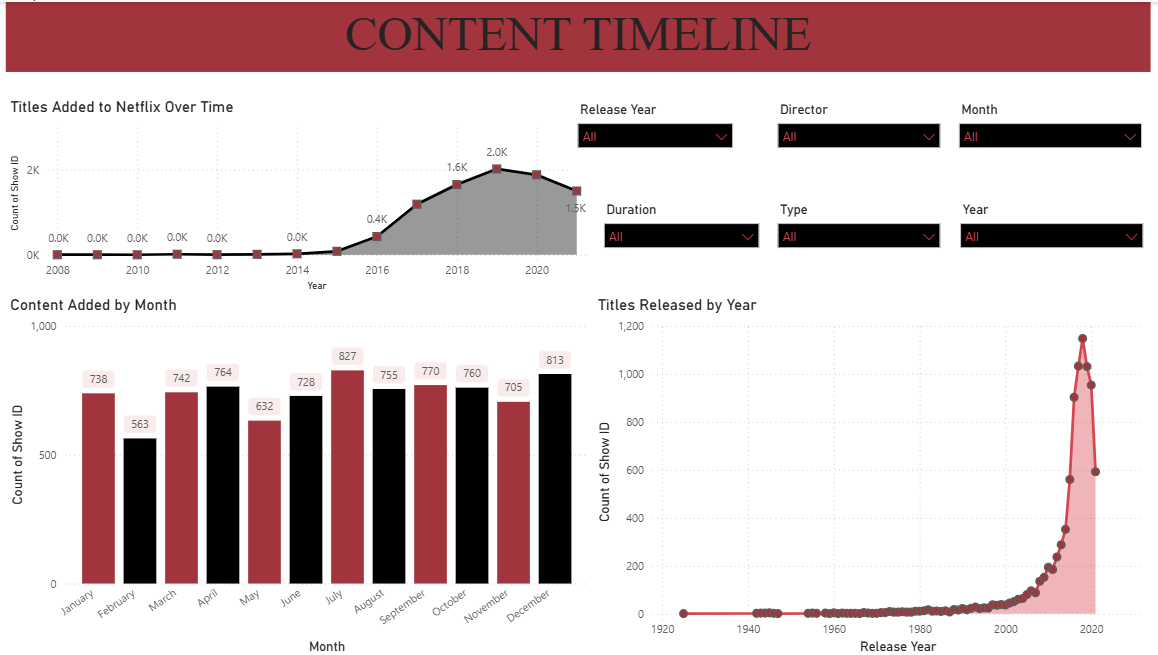

What the dashboard file says about the page in this screenshot:
{"tool":"powerbi","page":{"name":"Page 2","canvas":[1280,720],"ordinal":1},"visuals":[{"type":"textbox","box":[9.6,0,1257,76.8],"z":0},{"type":"areaChart","title":"Titles Added to Netflix Over Time","fields":{"Category":["Netflix data.Date Added.Variation.Date Hierarchy.Year","Netflix data.Date Added.Variation.Date Hierarchy.Quarter","Netflix data.Date Added.Variation.Date Hierarchy.Month","Netflix data.Date Added.Variation.Date Hierarchy.Day"],"Y":["CountNonNull(Netflix data.Show ID)"]},"box":[9.6,104.3,644.9,218.2],"z":1000},{"type":"lineChart","title":"Titles Released by Year","fields":{"Category":["Netflix data.Release Year"],"Y":["CountNonNull(Netflix data.Show ID)"]},"box":[654.5,322.5,612,397.9],"z":2000},{"type":"clusteredColumnChart","title":"Content Added by Month","fields":{"Category":["Netflix data.Date Added.Variation.Date Hierarchy.Month"],"Y":["CountNonNull(Netflix data.Show ID)"]},"box":[9.6,322.5,644.9,397.9],"z":3000},{"type":"slicer","fields":{"Values":["Netflix data.Release Year"]},"box":[627.1,104.3,190.7,87.8],"z":4000},{"type":"slicer","fields":{"Values":["Netflix data.Duration"]},"box":[655.9,214.1,190.7,87.8],"z":5000},{"type":"slicer","fields":{"Values":["Netflix data.Director"]},"box":[846.7,104.3,199,87.8],"z":6000},{"type":"slicer","fields":{"Values":["Netflix data.Type"]},"box":[846.7,214.1,199,87.8],"z":7000},{"type":"slicer","fields":{"Values":["Netflix data.Date Added.Variation.Date Hierarchy.Month"]},"box":[1045.6,104.3,220.9,87.8],"z":8000},{"type":"slicer","fields":{"Values":["Netflix data.Date Added.Variation.Date Hierarchy.Year"]},"box":[1047,214.1,220.9,87.8],"z":9000}]}

Visuals, with their boxes in screenshot pixels (x1, y1, x2, y2), scaled from the page's 1280x720 canvas onto the 1158x655 screenshot:
textbox: {"left": 9, "top": 0, "right": 1146, "bottom": 70}
"Titles Added to Netflix Over Time" areaChart: {"left": 9, "top": 95, "right": 592, "bottom": 293}
"Titles Released by Year" lineChart: {"left": 592, "top": 293, "right": 1146, "bottom": 654}
"Content Added by Month" clusteredColumnChart: {"left": 9, "top": 293, "right": 592, "bottom": 654}
slicer - Netflix data.Release Year: {"left": 567, "top": 95, "right": 740, "bottom": 175}
slicer - Netflix data.Duration: {"left": 593, "top": 195, "right": 766, "bottom": 275}
slicer - Netflix data.Director: {"left": 766, "top": 95, "right": 946, "bottom": 175}
slicer - Netflix data.Type: {"left": 766, "top": 195, "right": 946, "bottom": 275}
slicer - Netflix data.Date Added.Variation.Date Hierarchy.Month: {"left": 946, "top": 95, "right": 1146, "bottom": 175}
slicer - Netflix data.Date Added.Variation.Date Hierarchy.Year: {"left": 947, "top": 195, "right": 1147, "bottom": 275}
